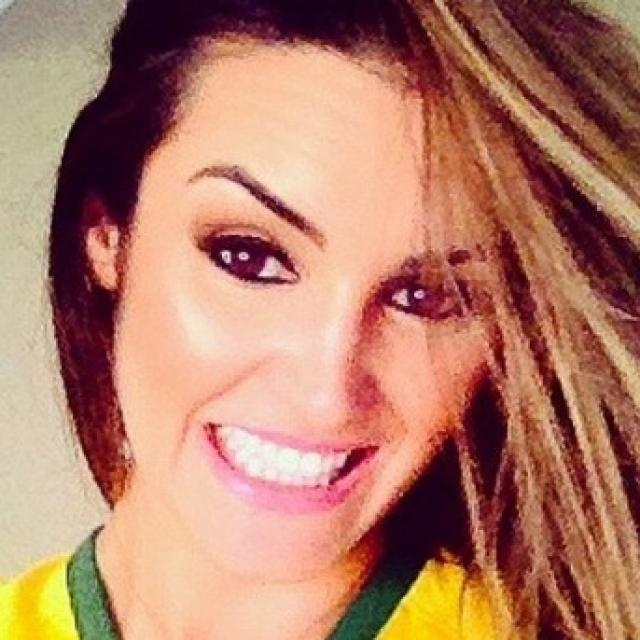Normal: (115, 44, 497, 589)
